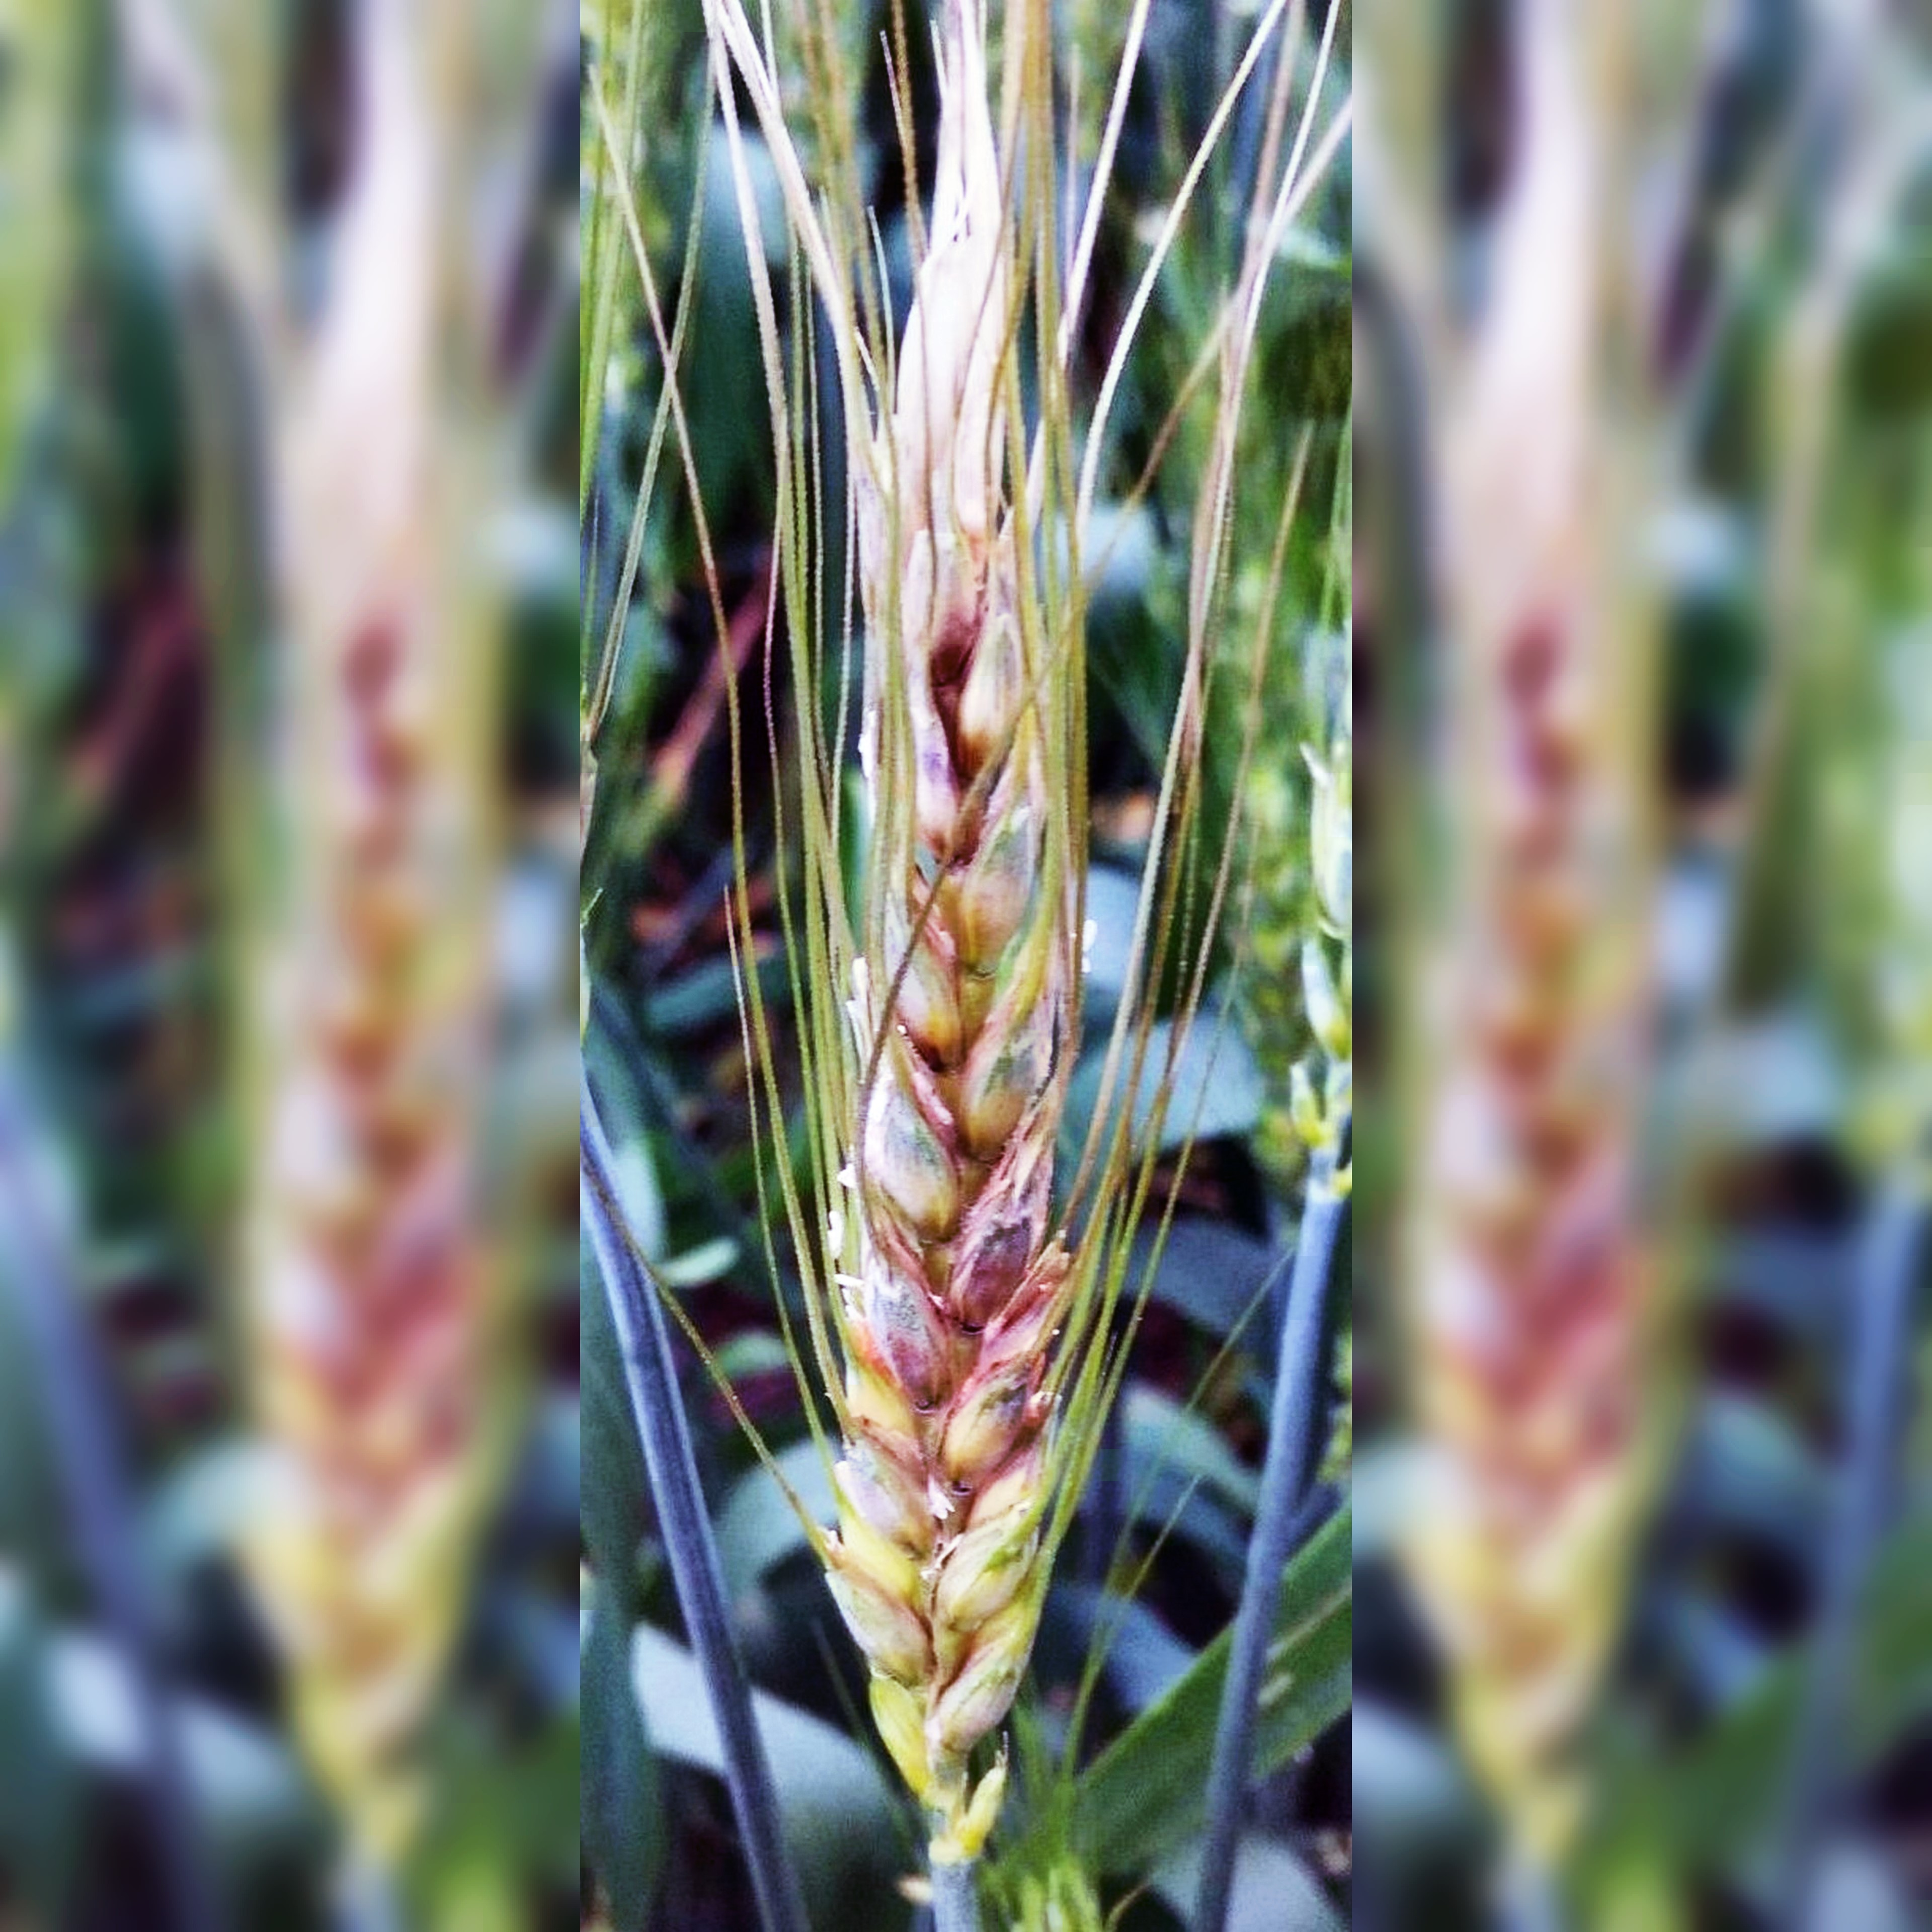Wheat scab: (747, 184, 1173, 1794)
